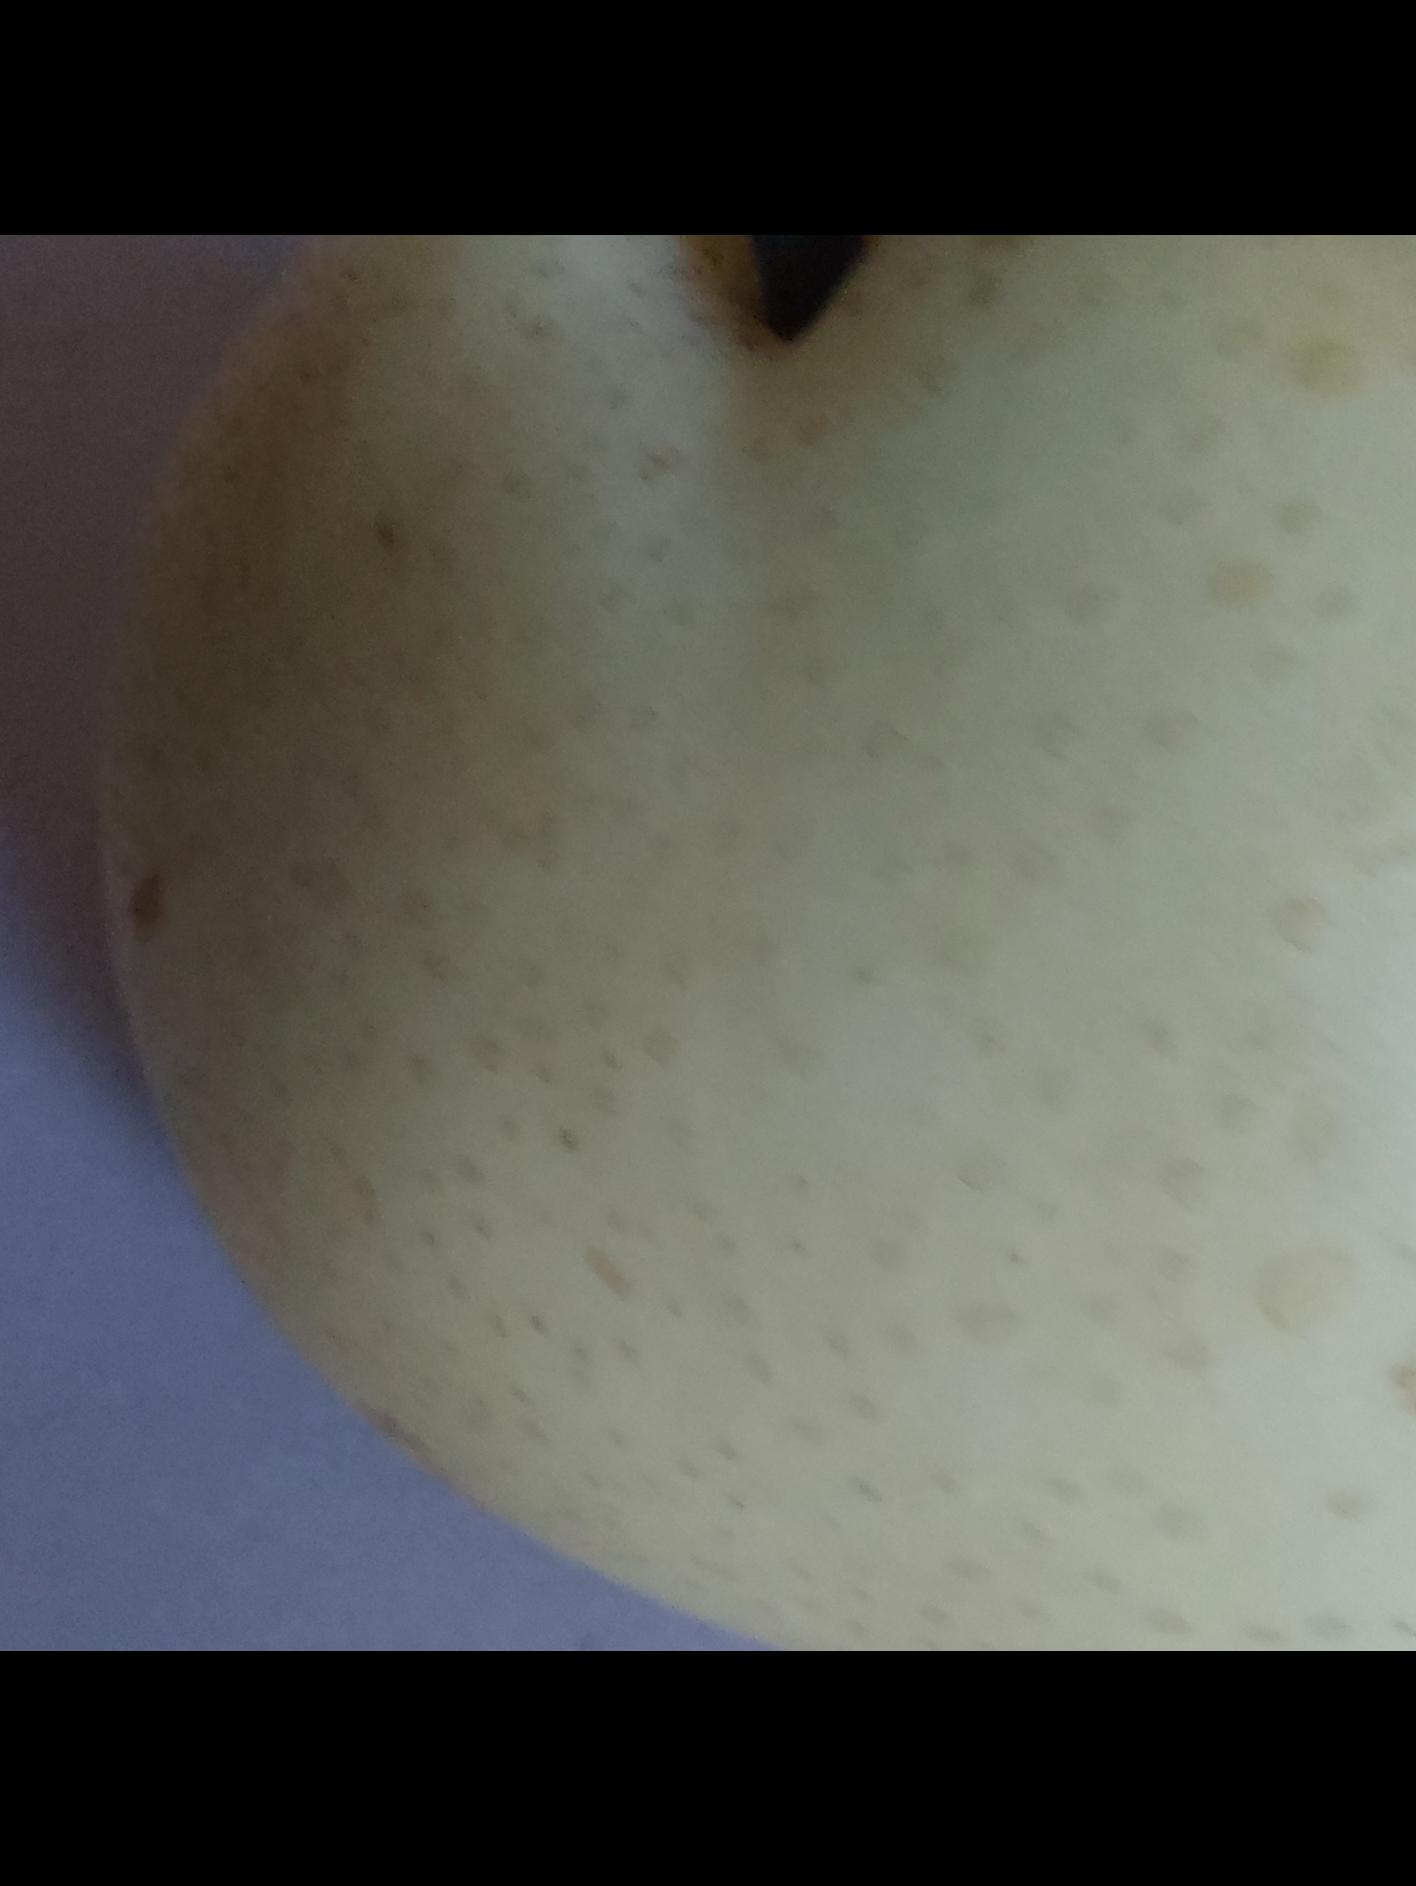Good Pear: (82, 235, 1416, 1651)
